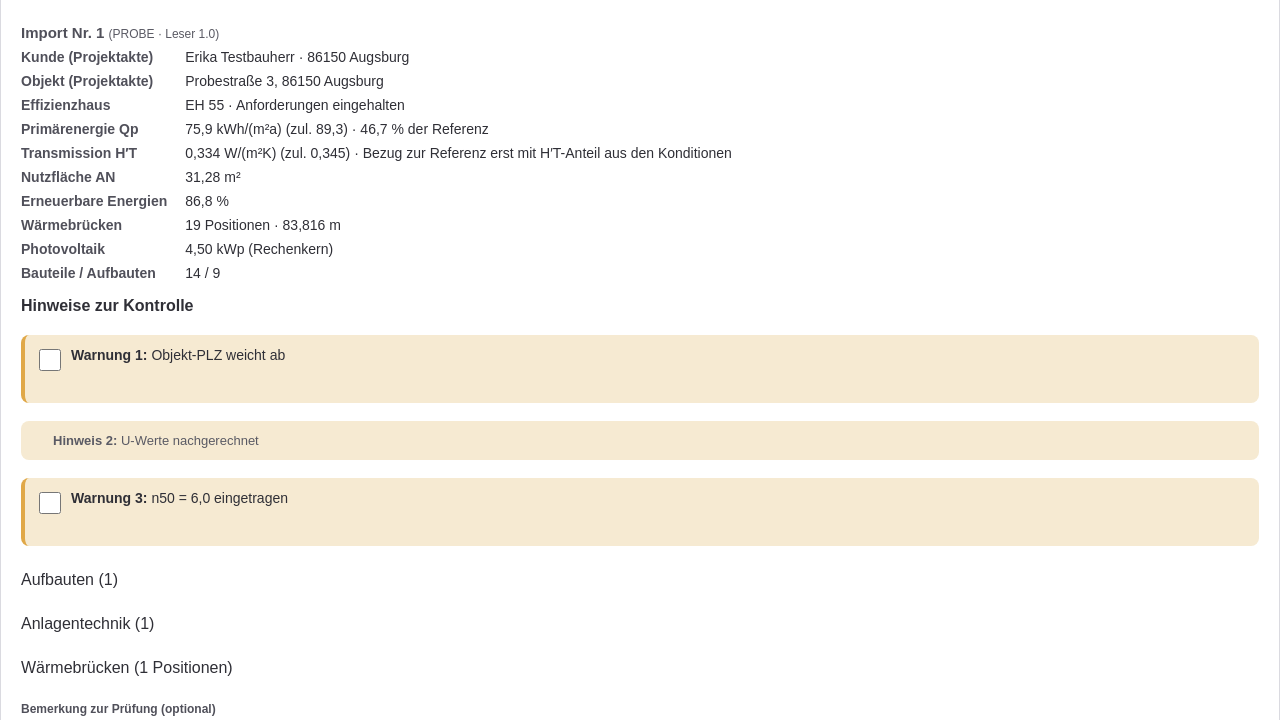
Energieberechnung in der Projektakte › „Übergabedaten geprüft“ erst, wenn alle Warnungen bestätigt sind; sendet die bestätigten Nummern
The width and height of the screenshot is (1280, 720).
(page scrolled)
Click the checkbox labelled "Warnung 1: Objekt-PLZ weicht ab". click: (50, 360)
box: [39,349,61,371]
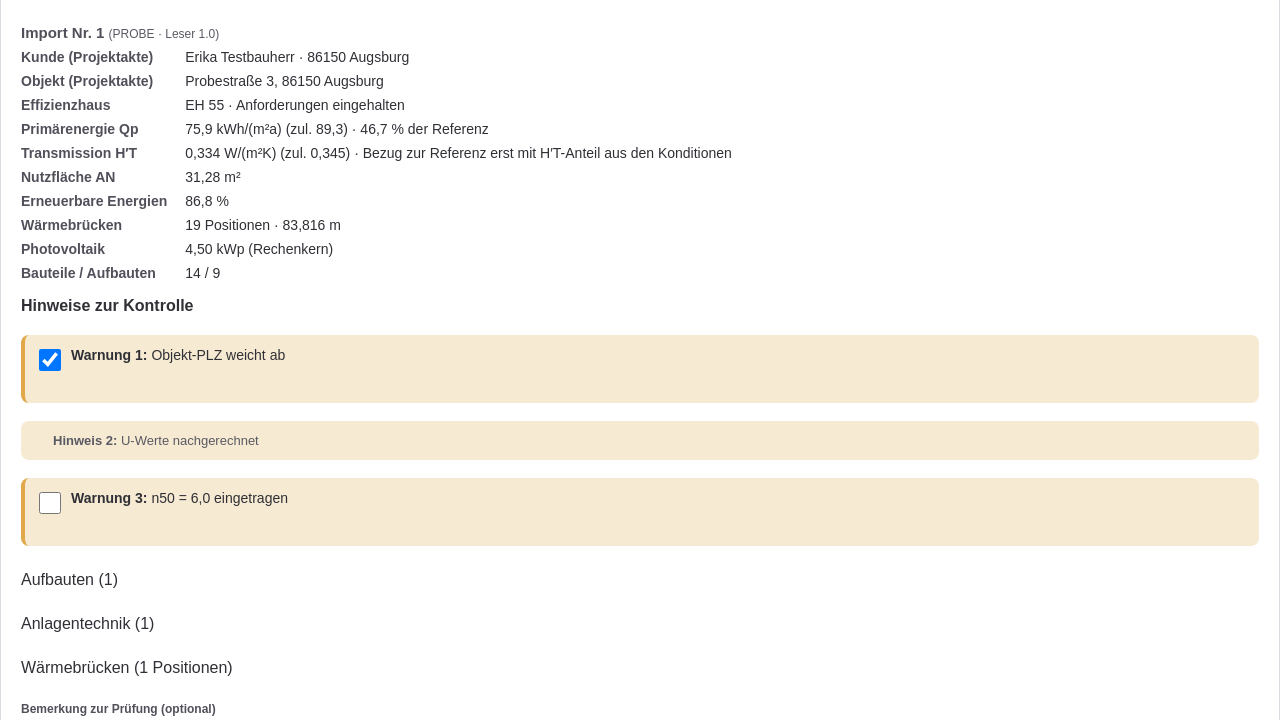
Click the checkbox labelled "Warnung 3: n50 = 6,0 eingetragen". click: (50, 503)
box: [39,492,61,514]
(page scrolled)
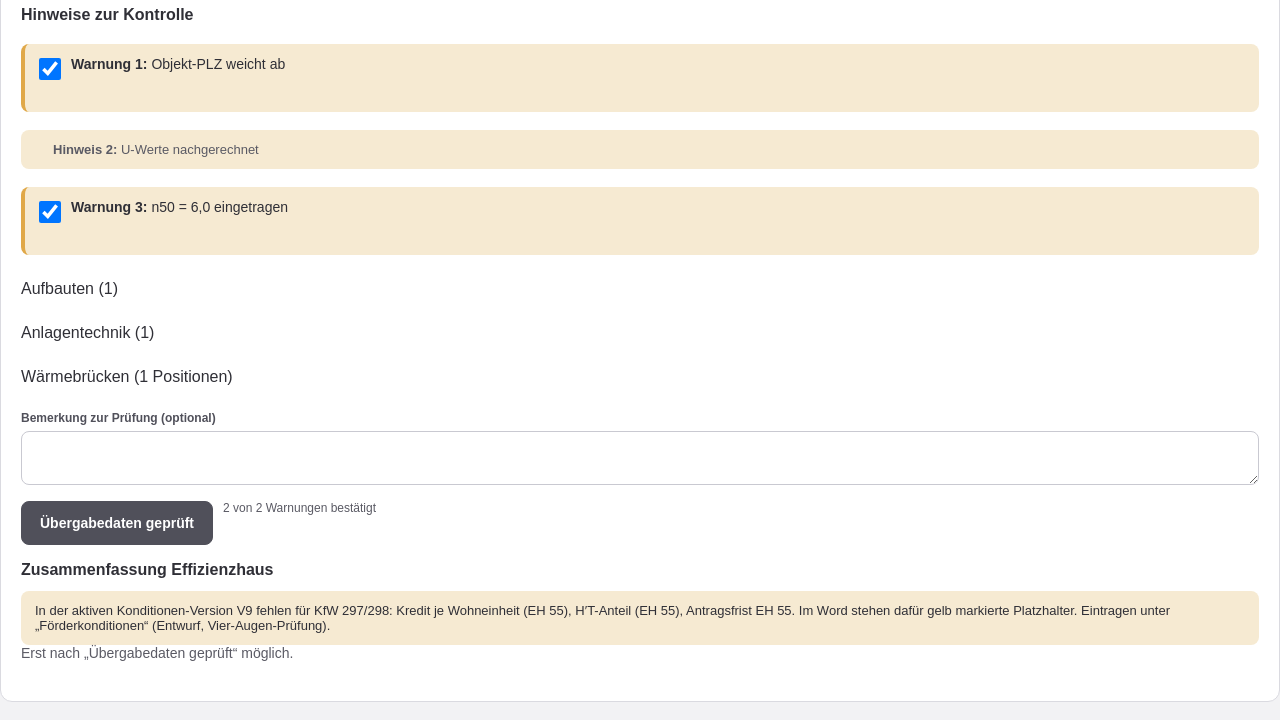
Check: the button "Übergabedaten geprüft" is enabled
Click the button "Übergabedaten geprüft". click: (117, 523)
box: [21,501,213,545]
(page scrolled)
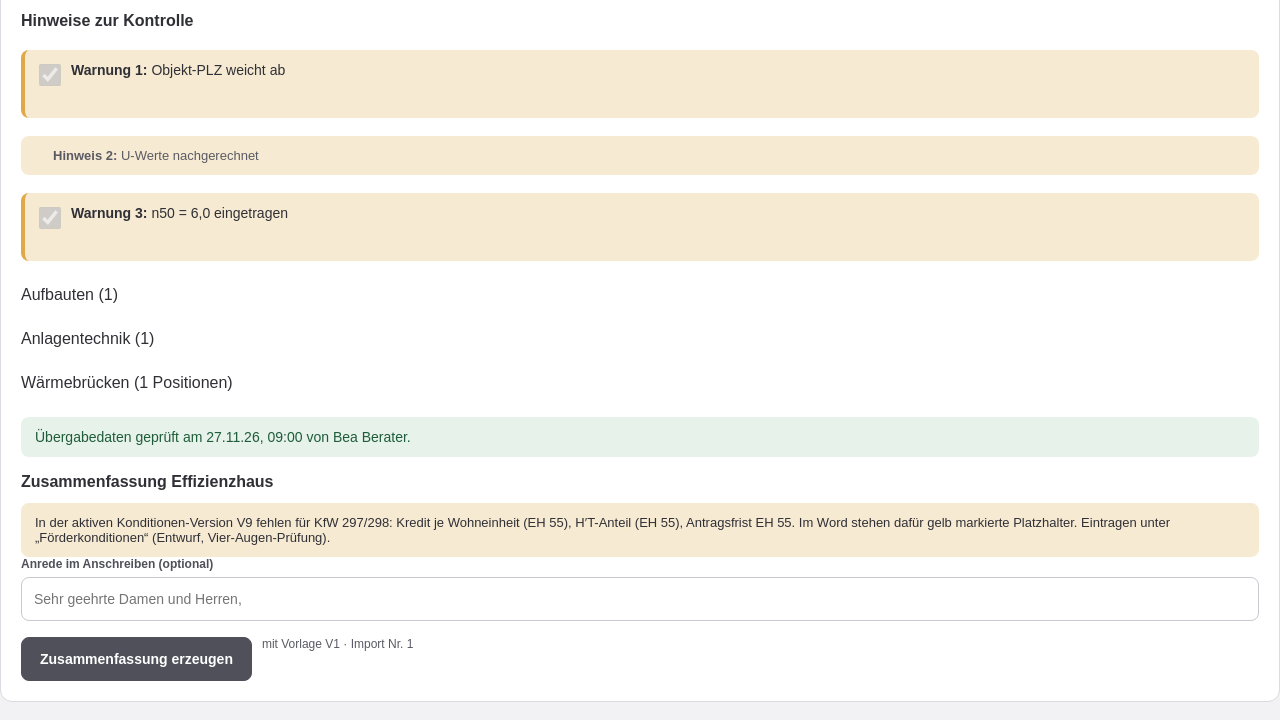
Check: the text "Übergabedaten geprüft am 27.11.26, 09:00 von Bea Berater." is shown, box [21,417,1259,457]
Check: the button "Zusammenfassung erzeugen" is shown, box [21,637,252,681]
